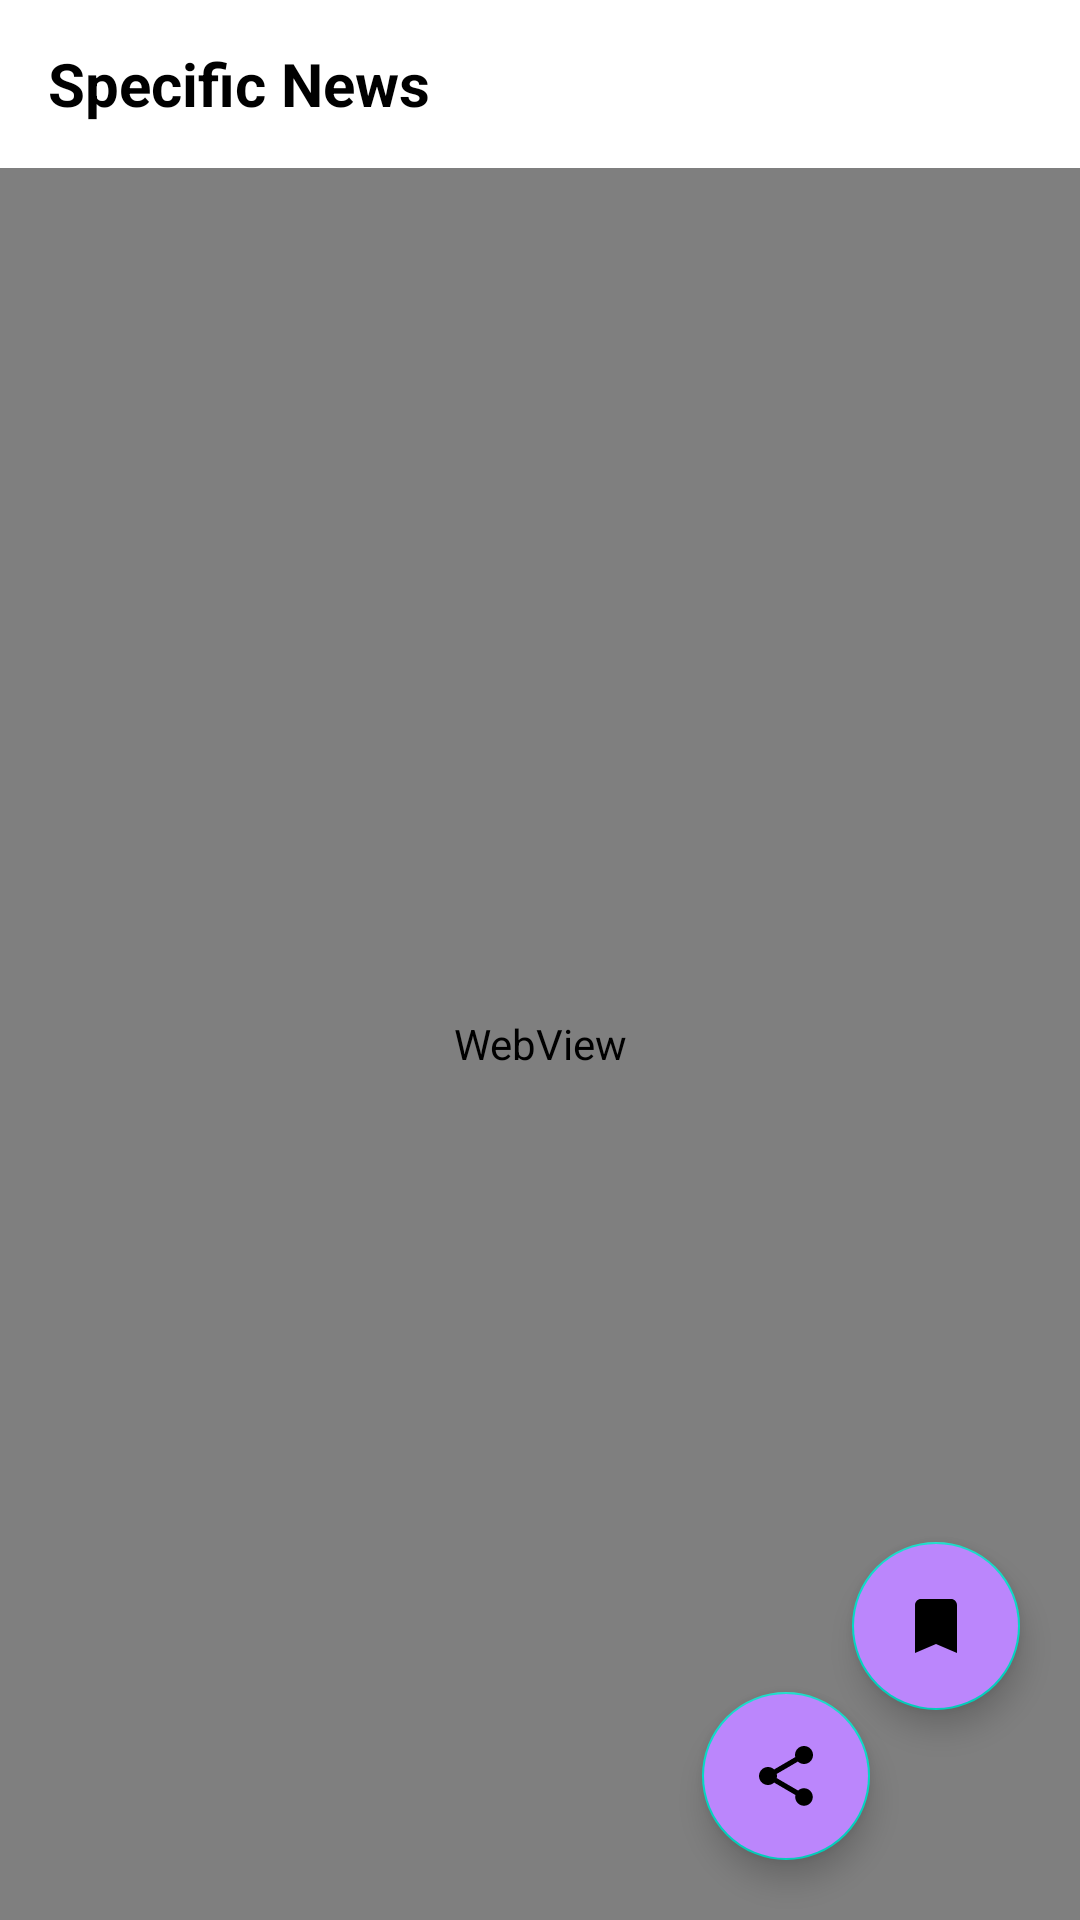

Named icons in this screenshot (1080w x 1920h) and their bounding boxes, (x1,y1,x2,y2):
bookmark: (852,1542,1020,1710)
share: (702,1692,870,1860)
